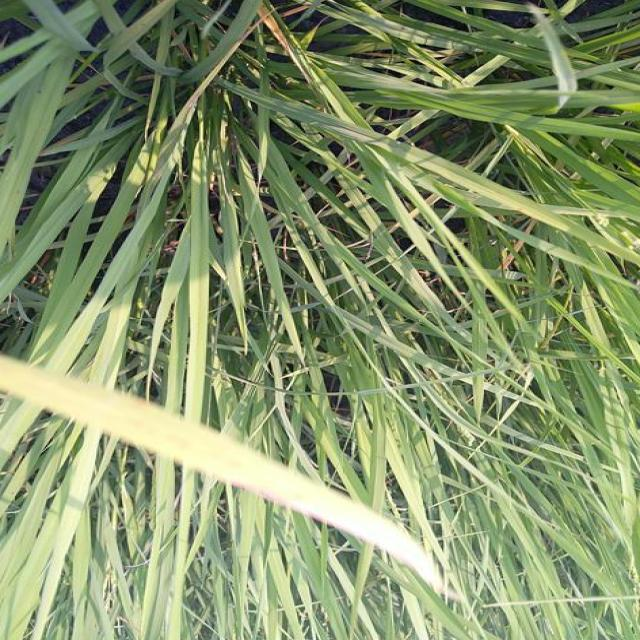Leaf Blight: (0, 352, 446, 590)
